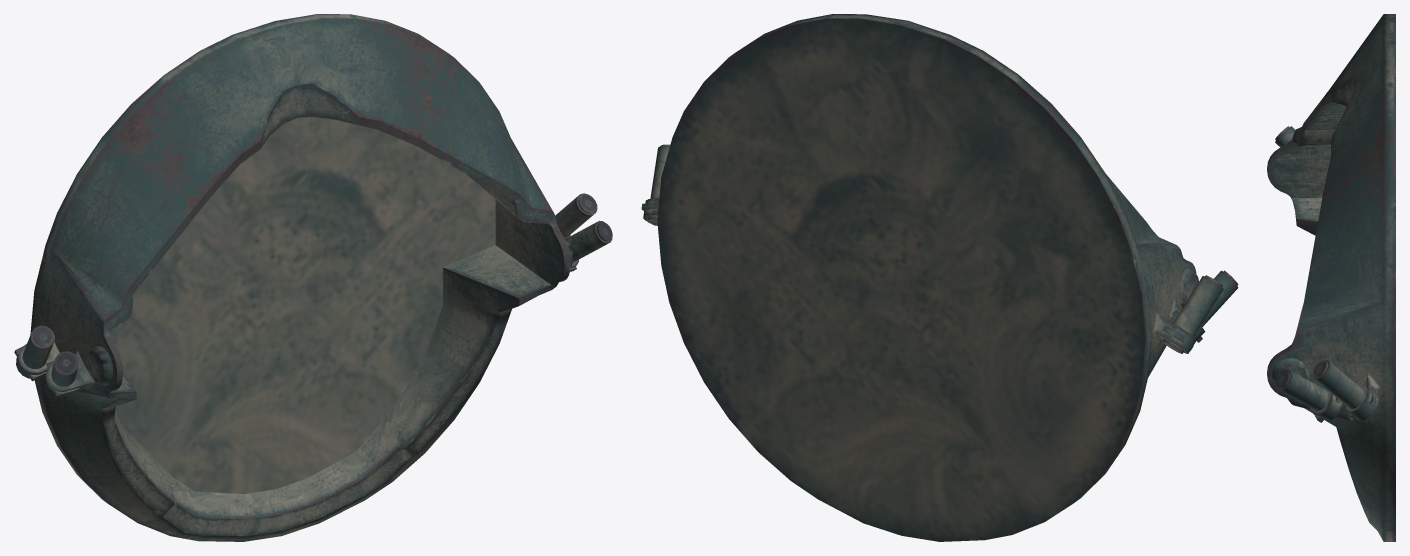
The model's file is Turret_01.glb.
3 views of the same model, side by side, from view 1: azimuth 30°, elevation 25°; view 2: azimuth 150°, elevation 25°; view 3: azimuth 270°, elevation 25° (orthographic). The views are drawn at different scales.
Parts seen in each view (by area): view 1: set_0_group_0; view 2: set_0_group_0; view 3: set_0_group_0.
Boxes of the visible parts, x1,y1,x2,y2 form: set_0_group_0: (14, 14, 612, 541); set_0_group_0: (641, 14, 1238, 541); set_0_group_0: (1267, 14, 1395, 541).
Size of the model in its own units: 2.93 by 2.53 by 0.6189.
1 material, 1 textured.
